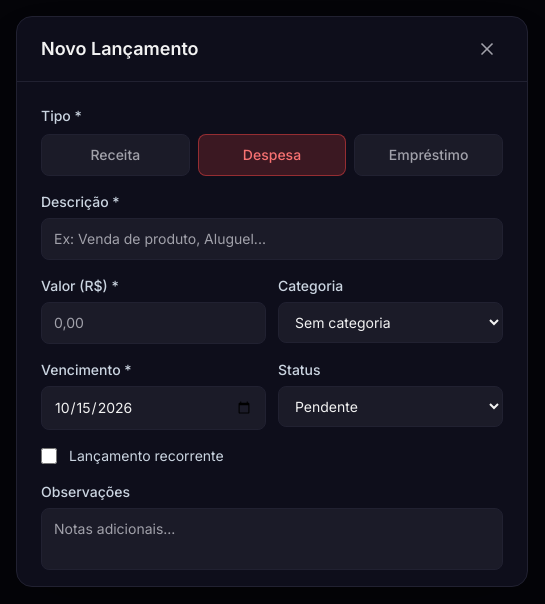
LancamentoForm — empréstimo › campos de empréstimo só aparecem quando tipo=Empréstimo
Expected: the text "Direção *" is not shown
What coordinates should you click on to do the following:
click the button "Empréstimo"
I would click on:
 (429, 154)
Its box is [354, 134, 503, 176].
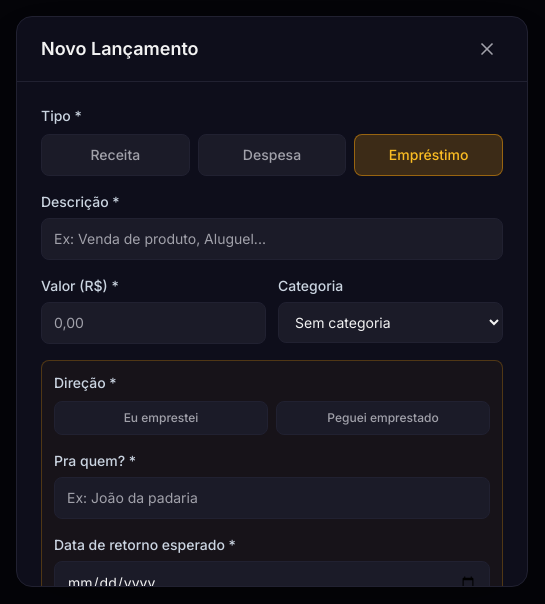
Now the text "Direção *" is shown, box [54, 374, 117, 390]
Now the button "Eu emprestei" is shown, box [54, 400, 268, 434]
Now the button "Peguei emprestado" is shown, box [276, 400, 490, 434]
